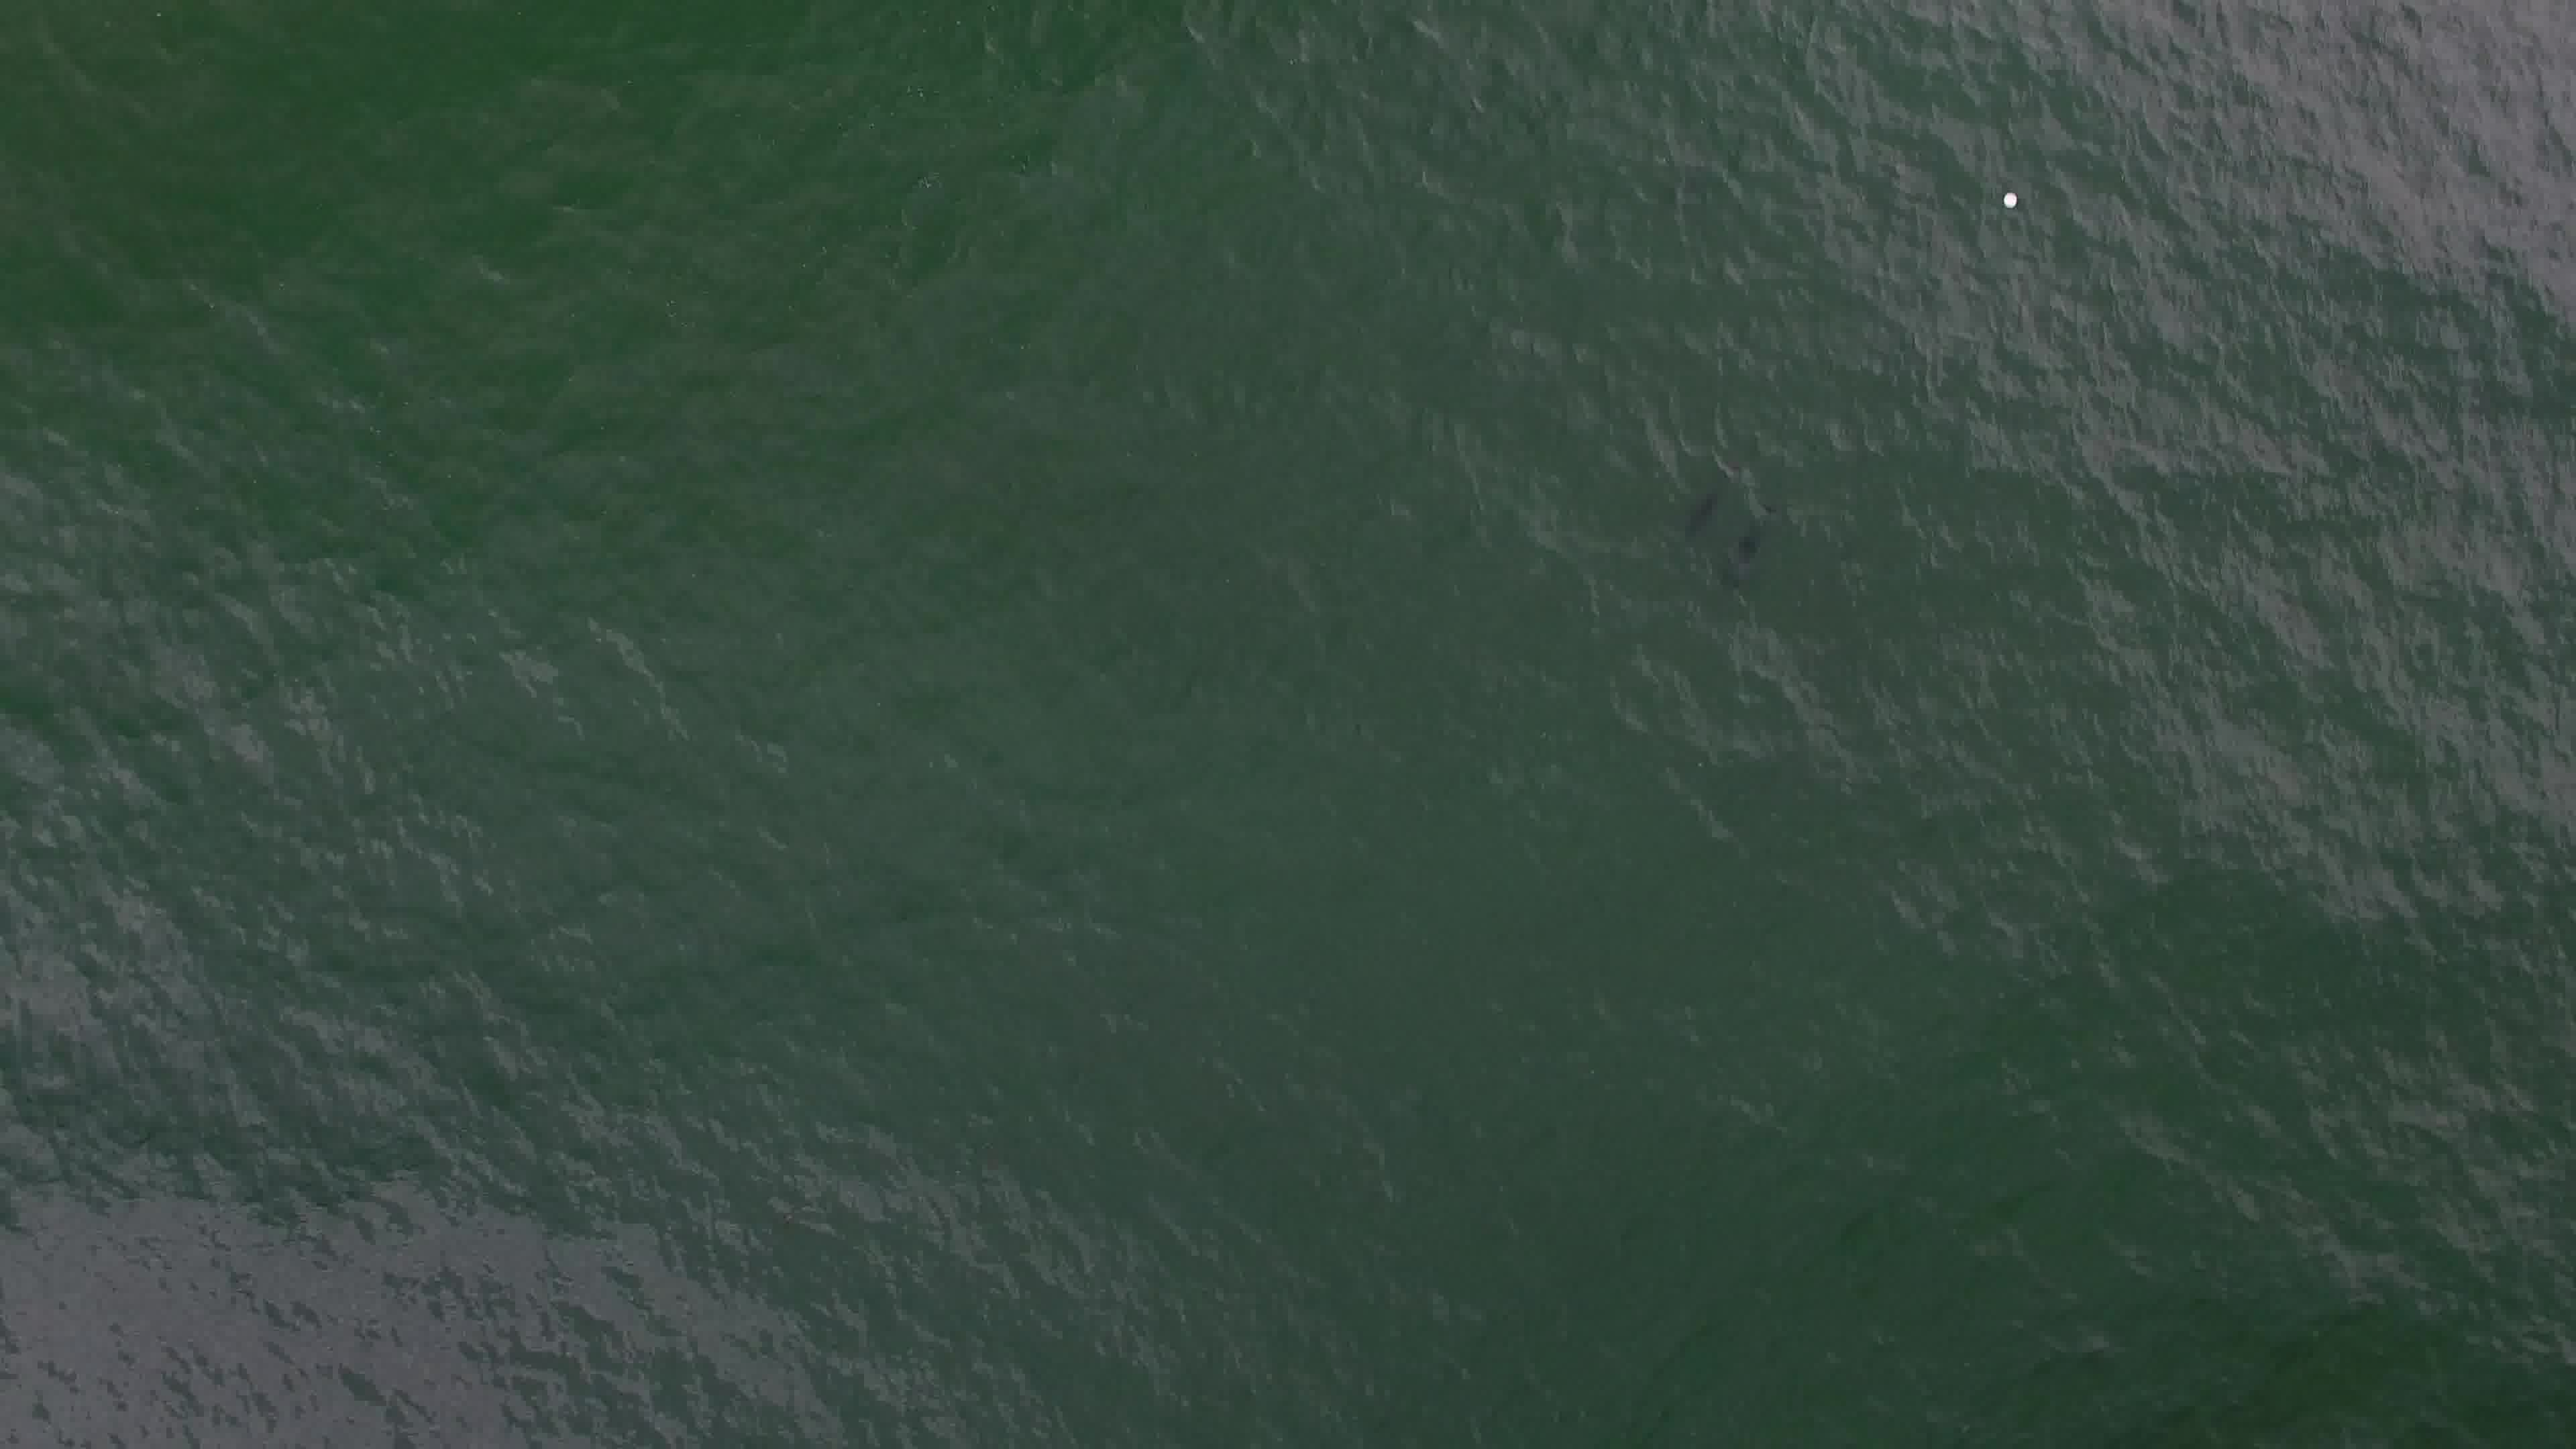dolphin: (1645, 439, 1766, 550), (1698, 483, 1798, 616)
